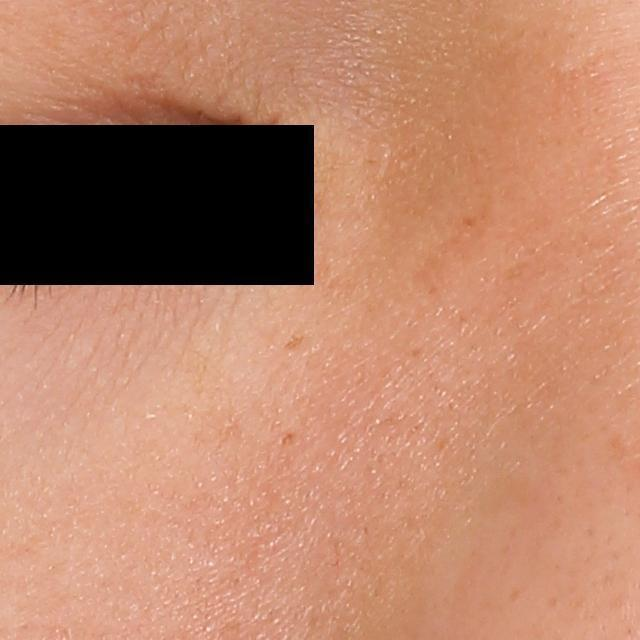melasma: (281, 329, 306, 352)
